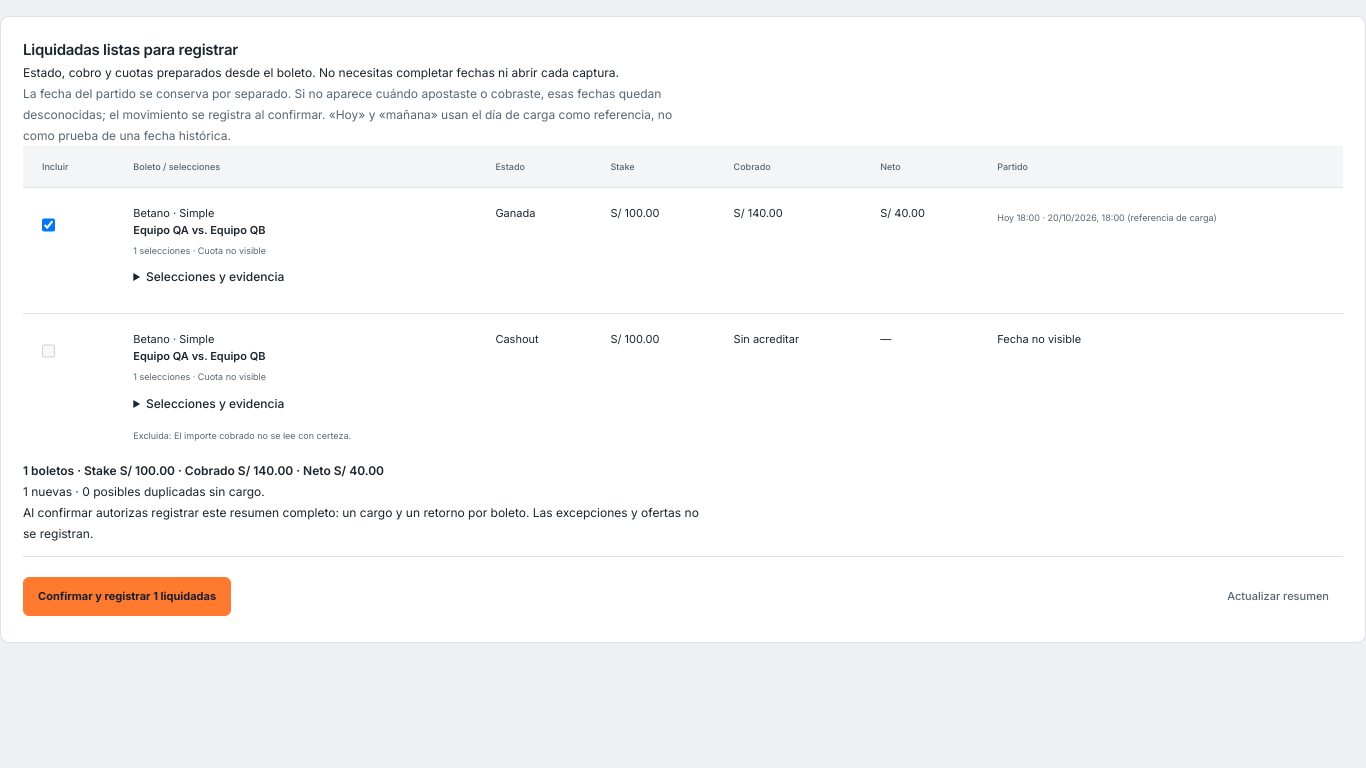
it: prepares a visible consolidated summary without dates or per-ticket review; writes only after consent and blocks double click
Check: the element named "Importación automática de liquidadas" shows "S/ 40.00", box x1=880 y1=206 x2=925 y2=220
What coordinates should you click on to do the following:
click the button "Confirmar y registrar 1 liquidadas"
I would click on:
 (127, 596)
Its box is x1=23 y1=577 x2=231 y2=616.
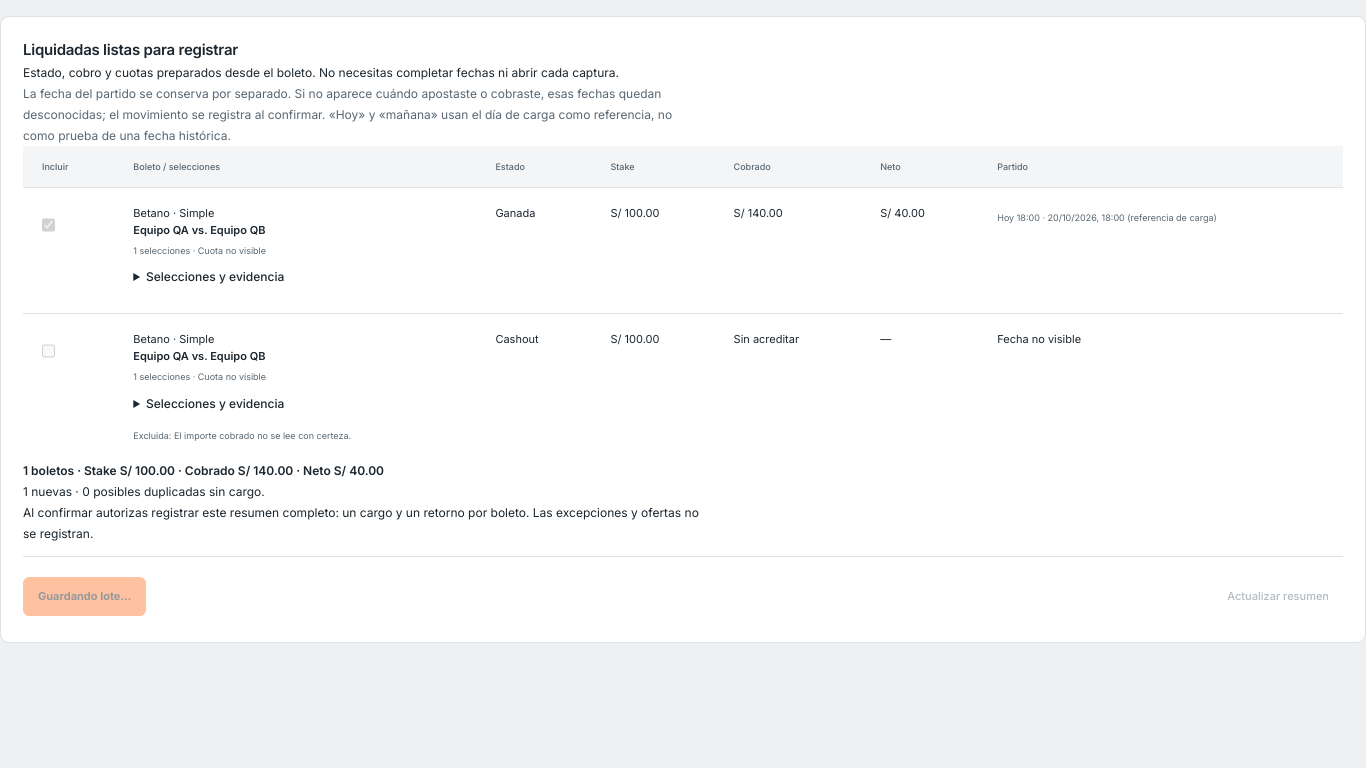
What coordinates should you click on to do the following:
click the button named "Confirmar y registrar 1 liquidadas"
I would click on:
 (85, 596)
Its box is x1=23 y1=577 x2=146 y2=616.
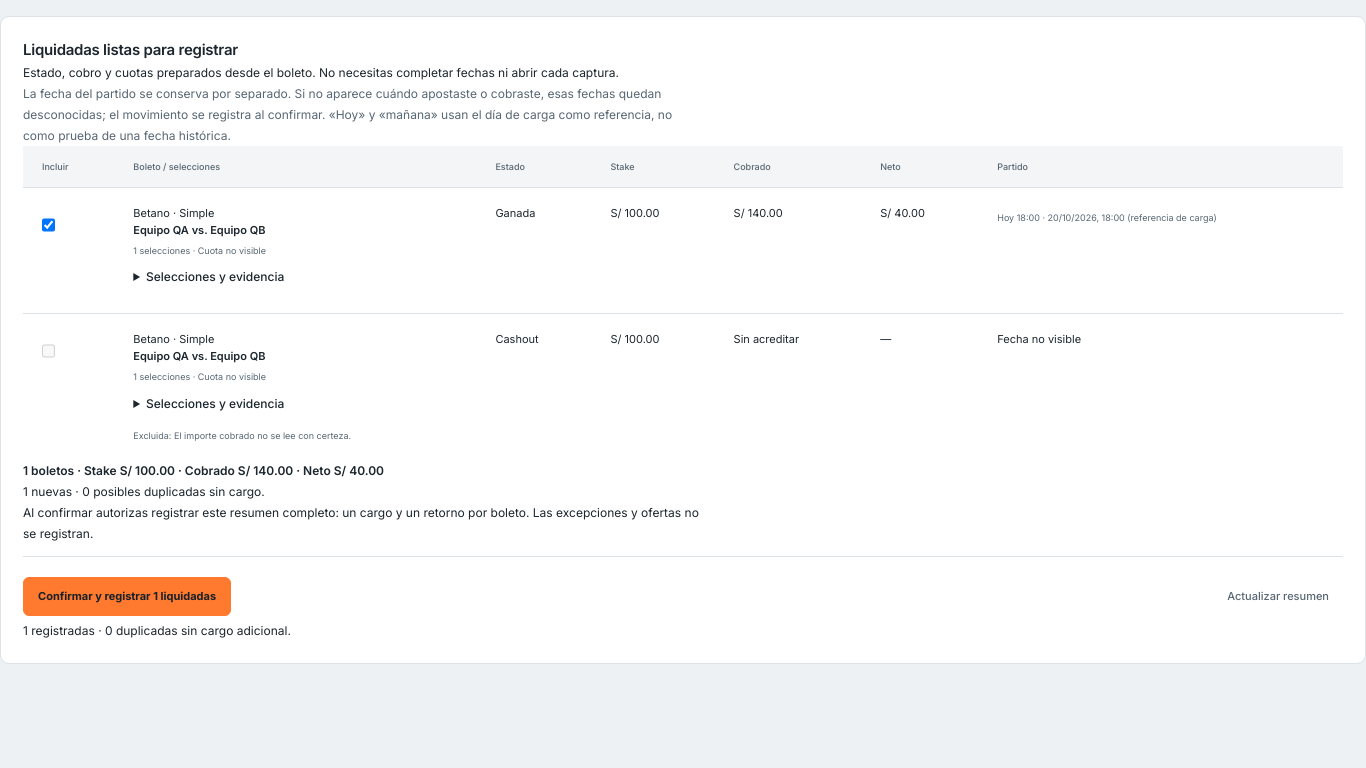
Check: the message shows "1 registradas", box x1=23 y1=623 x2=291 y2=638
